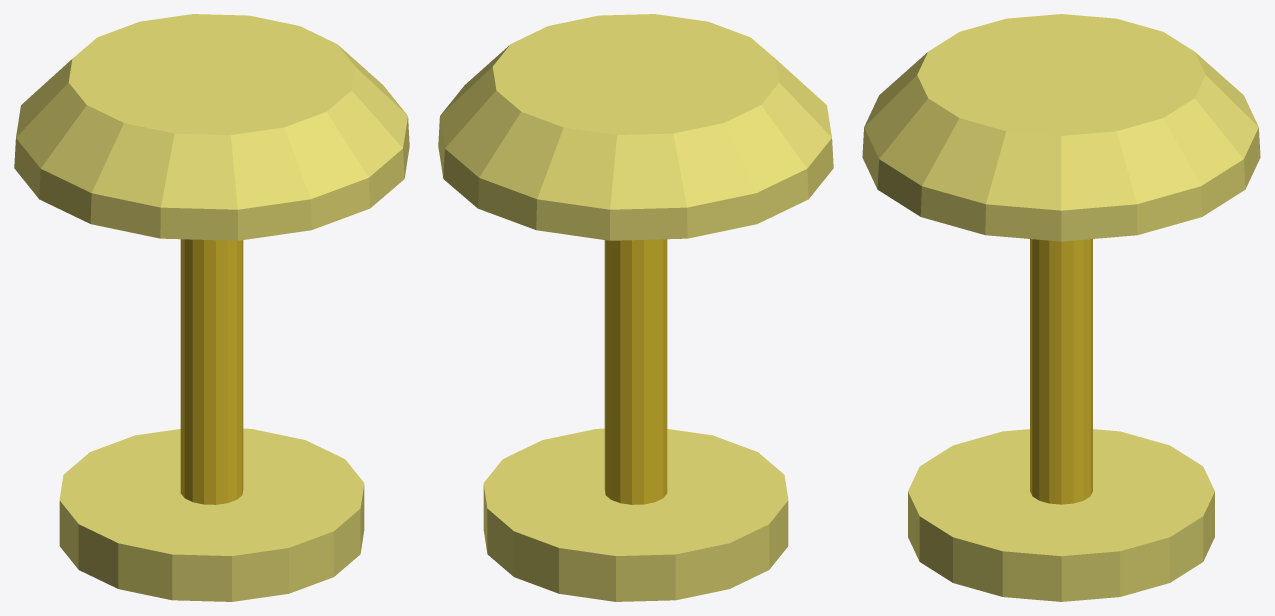
Rendered from LandLamp.fbx.
3 views of the same model, side by side, from view 1: azimuth 30°, elevation 25°; view 2: azimuth 150°, elevation 25°; view 3: azimuth 270°, elevation 25° (orthographic).
Visible parts, largest first — view 1: Cube.002; view 2: Cube.002; view 3: Cube.002.
Boxes of the visible parts, x1,y1,x2,y2 form: Cube.002: (14, 14, 409, 601); Cube.002: (438, 14, 833, 601); Cube.002: (862, 14, 1260, 601).
Bounding box in the file's own units: 156 × 200 × 156.
